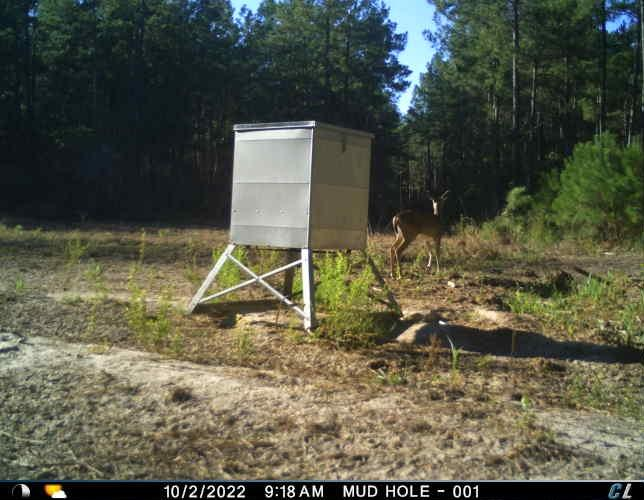Deer: (390, 186, 451, 281)
